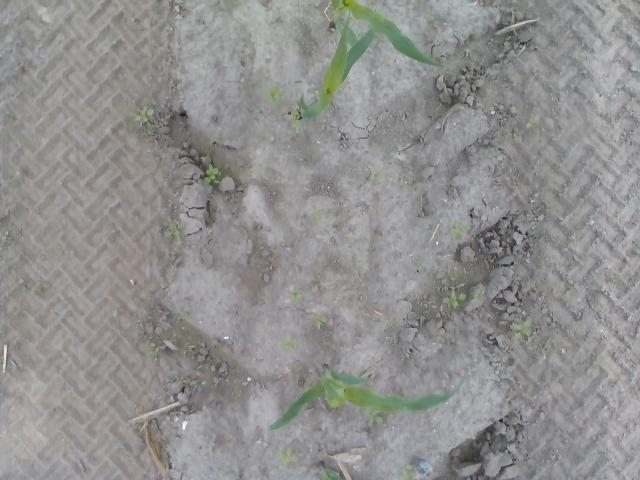Maize: (265, 362, 465, 434), (298, 11, 374, 118), (329, 0, 442, 67), (318, 460, 341, 480)
Weeds: (439, 288, 466, 310), (448, 219, 474, 241), (513, 318, 532, 340), (158, 224, 181, 242), (308, 206, 337, 220), (175, 376, 208, 388), (277, 446, 299, 464), (135, 104, 154, 122), (204, 162, 219, 184), (308, 313, 328, 326), (436, 326, 450, 344), (266, 84, 281, 100), (401, 465, 416, 480), (144, 342, 160, 356), (369, 168, 385, 182), (281, 338, 295, 352), (289, 110, 301, 126), (288, 288, 301, 302), (368, 416, 384, 426), (528, 112, 540, 124), (486, 152, 496, 166), (422, 4, 432, 17), (0, 229, 9, 241), (218, 132, 224, 142)
